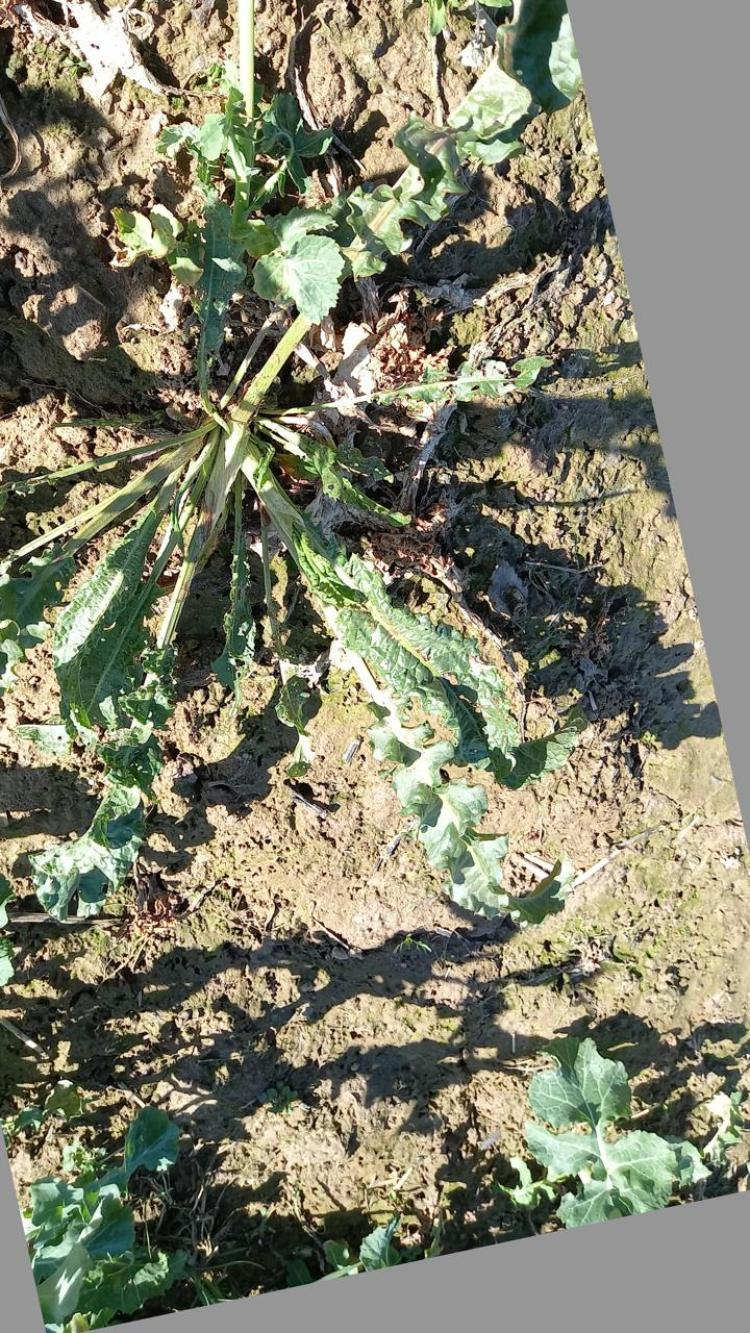zhavel: (0, 68, 554, 919)
